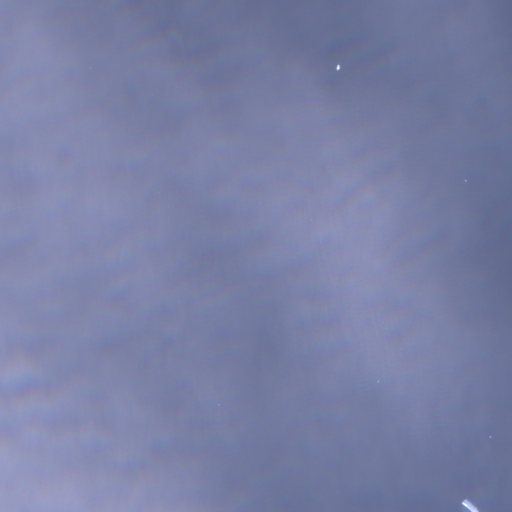Iceberg: (462, 499, 478, 511), (336, 64, 340, 70), (465, 179, 466, 181), (489, 436, 491, 437)
